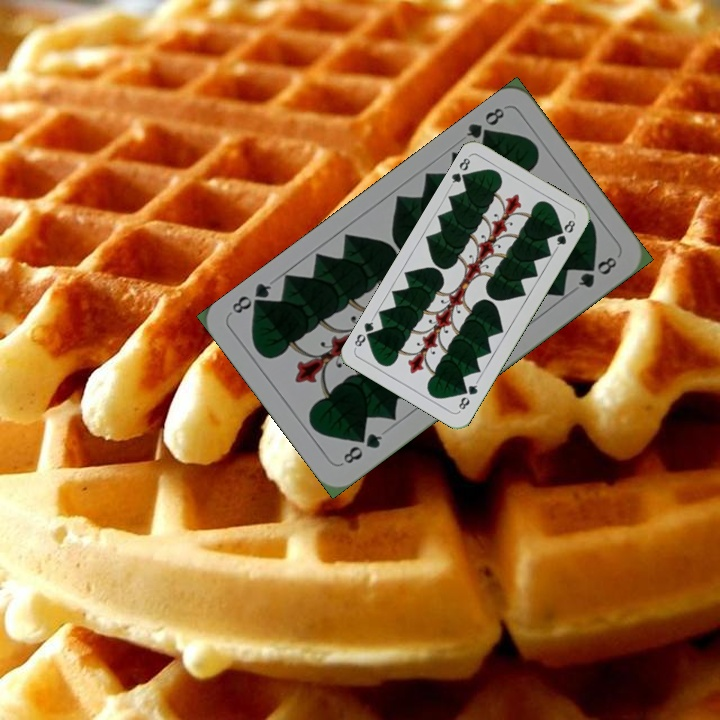G8: (462, 103, 507, 145), (337, 429, 385, 467), (454, 377, 481, 414), (446, 153, 473, 189)
